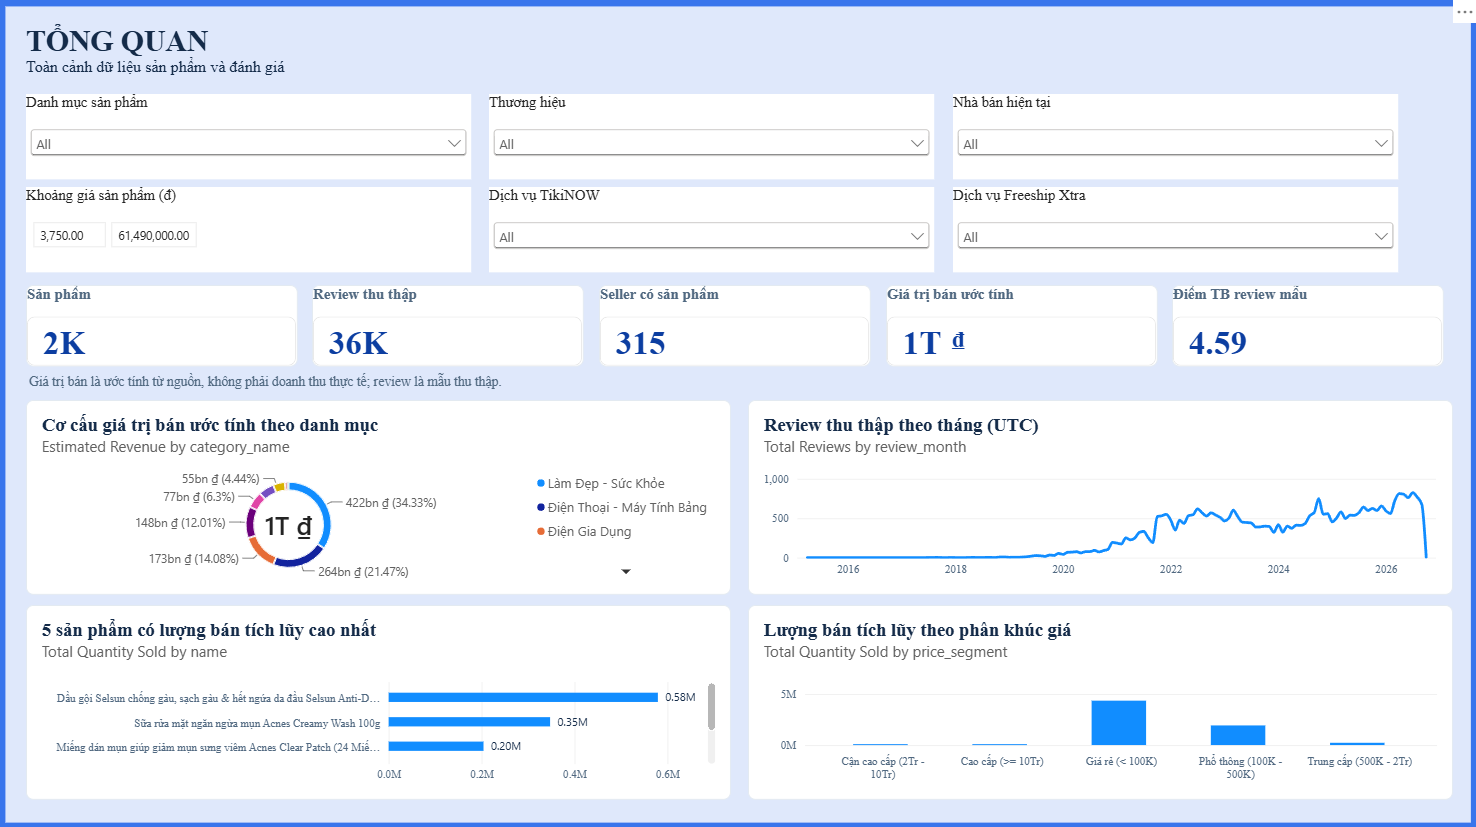

The dashboard page shown, as its layout file describes it:
{"tool":"powerbi","page":{"name":"Tổng quan","canvas":[1600,900],"ordinal":0},"visuals":[{"type":"shape","box":[2,2,1596,896],"z":0},{"type":"cardVisual","title":"Sản phẩm","fields":{"Data":["KPI_Measures.Total Products"]},"box":[32,310,292.6,88],"z":1000},{"type":"cardVisual","title":"Review thu thập","fields":{"Data":["KPI_Measures.Total Reviews"]},"box":[341,310,292.6,88],"z":2000},{"type":"cardVisual","title":"Seller có sản phẩm","fields":{"Data":["KPI_Measures.Sellers with Products"]},"box":[650,310,292.6,88],"z":3000},{"type":"cardVisual","title":"Giá trị bán ước tính","fields":{"Data":["KPI_Measures.Estimated Revenue"]},"box":[959.1,310,292.6,88],"z":4000},{"type":"cardVisual","title":"Điểm TB review mẫu","fields":{"Data":["KPI_Measures.Average Review Rating"]},"box":[1268.1,310,292.6,88],"z":5000},{"type":"donutChart","title":"Cơ cấu giá trị bán ước tính theo danh mục","fields":{"Category":["Dim_Category.category_name"],"Y":["KPI_Measures.Estimated Revenue"]},"box":[32,435,760.2,210],"z":10000},{"type":"lineChart","title":"Review thu thập theo tháng (UTC)","fields":{"Category":["Fact_Reviews.review_month"],"Y":["KPI_Measures.Total Reviews"]},"box":[811,435,760.2,210],"z":11000},{"type":"clusteredBarChart","title":"5 sản phẩm có lượng bán tích lũy cao nhất","fields":{"Category":["Dim_Product.name"],"Y":["KPI_Measures.Total Quantity Sold"]},"box":[32,655,760.2,210],"z":12000},{"type":"columnChart","title":"Lượng bán tích lũy theo phân khúc giá","fields":{"Category":["Dim_Product.price_segment"],"Y":["KPI_Measures.Total Quantity Sold"]},"box":[811,655,760.2,210],"z":13000},{"type":"textbox","box":[32,29,1509.9,84],"z":99000},{"type":"textbox","box":[35.5,404,1515.8,26],"z":100000},{"type":"slicer","title":"Danh mục sản phẩm","fields":{"Values":["Dim_Category.category_name"]},"box":[32,105,480,92],"z":200000},{"type":"slicer","title":"Thương hiệu","fields":{"Values":["Dim_Product.brand_name"]},"box":[532,105,480,92],"z":200001},{"type":"slicer","title":"Nhà bán hiện tại","fields":{"Values":["Dim_Seller.seller_name"]},"box":[1032,105,480,92],"z":200002},{"type":"slicer","title":"Khoảng giá sản phẩm (đ)","fields":{"Values":["Dim_Product.price"]},"box":[32,205,480,92],"z":200100},{"type":"slicer","title":"Dịch vụ TikiNOW","fields":{"Values":["Dim_Product.tiki_filter"]},"box":[532,205,480,92],"z":200101},{"type":"slicer","title":"Dịch vụ Freeship Xtra","fields":{"Values":["Dim_Product.freeship_filter"]},"box":[1032,205,480,92],"z":200102}]}

Visuals, with their boxes in screenshot pixels (x1, y1, x2, y2), scaled from the page's 1600x900 canvas onto the 1476x827 screenshot:
shape: <region>2, 2, 1474, 825</region>
"Sản phẩm" cardVisual: <region>30, 285, 299, 366</region>
"Review thu thập" cardVisual: <region>315, 285, 584, 366</region>
"Seller có sản phẩm" cardVisual: <region>600, 285, 870, 366</region>
"Giá trị bán ước tính" cardVisual: <region>885, 285, 1155, 366</region>
"Điểm TB review mẫu" cardVisual: <region>1170, 285, 1440, 366</region>
"Cơ cấu giá trị bán ước tính theo danh mục" donutChart: <region>30, 400, 731, 593</region>
"Review thu thập theo tháng (UTC)" lineChart: <region>748, 400, 1449, 593</region>
"5 sản phẩm có lượng bán tích lũy cao nhất" clusteredBarChart: <region>30, 602, 731, 795</region>
"Lượng bán tích lũy theo phân khúc giá" columnChart: <region>748, 602, 1449, 795</region>
textbox: <region>30, 27, 1422, 104</region>
textbox: <region>33, 371, 1431, 395</region>
"Danh mục sản phẩm" slicer: <region>30, 96, 472, 181</region>
"Thương hiệu" slicer: <region>491, 96, 934, 181</region>
"Nhà bán hiện tại" slicer: <region>952, 96, 1395, 181</region>
"Khoảng giá sản phẩm (đ)" slicer: <region>30, 188, 472, 273</region>
"Dịch vụ TikiNOW" slicer: <region>491, 188, 934, 273</region>
"Dịch vụ Freeship Xtra" slicer: <region>952, 188, 1395, 273</region>
